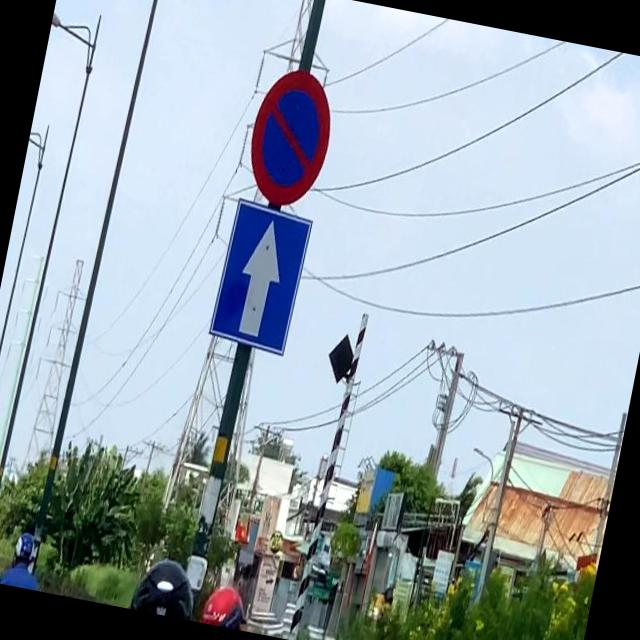I-407a: (208, 202, 310, 354)
P-131a: (238, 63, 342, 210)
